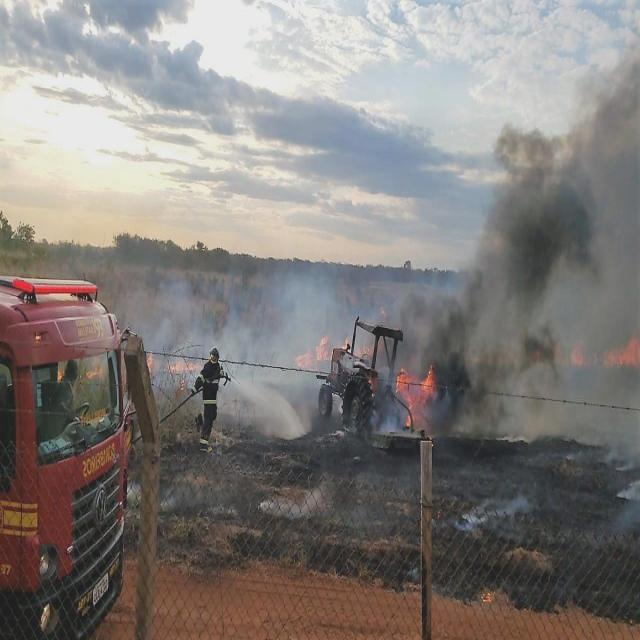Fire: (556, 333, 636, 367), (293, 327, 349, 372), (398, 367, 432, 426), (146, 351, 194, 388)
